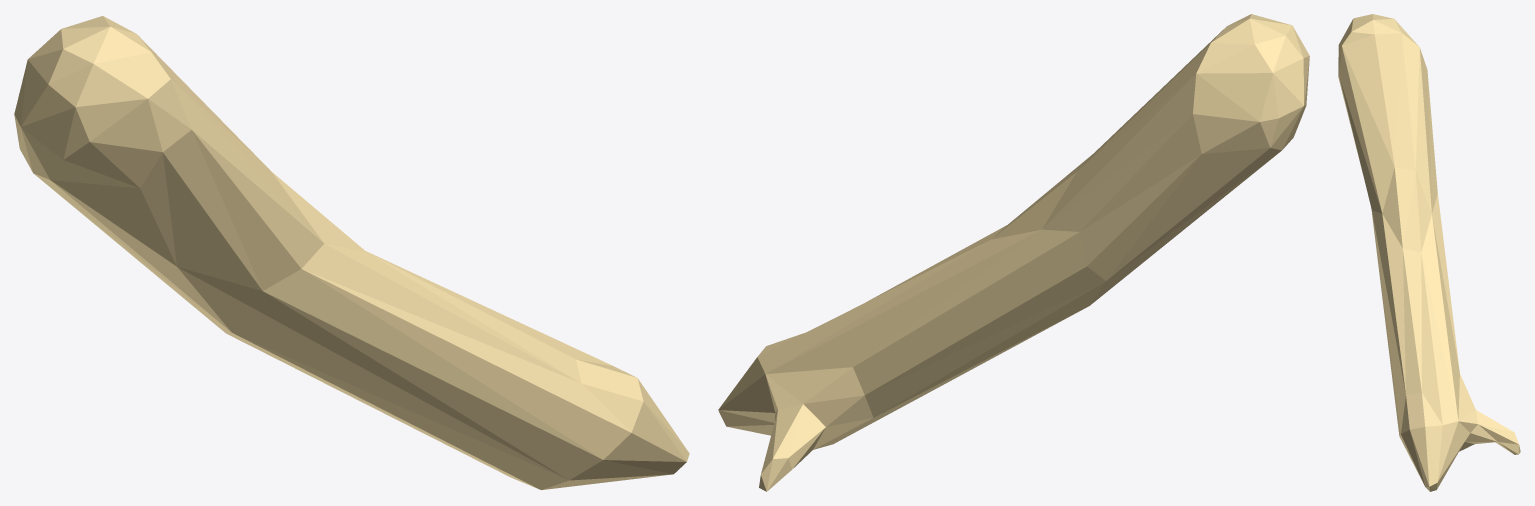
File: rightArm.obj
3 renders of one model, left to right at view 1: azimuth 30°, elevation 25°; view 2: azimuth 150°, elevation 25°; view 3: azimuth 270°, elevation 25°, orthographic. The views are drawn at different scales.
Parts seen in each view (by area): view 1: 右腕; view 2: 右腕; view 3: 右腕.
Boxes of the visible parts, <box> form: 右腕: <box>14,16,689,489</box>; 右腕: <box>718,14,1309,491</box>; 右腕: <box>1338,14,1520,491</box>.
Size of the model in its own units: 0.2307 by 0.1974 by 0.1019.
1 material, 1 textured.
